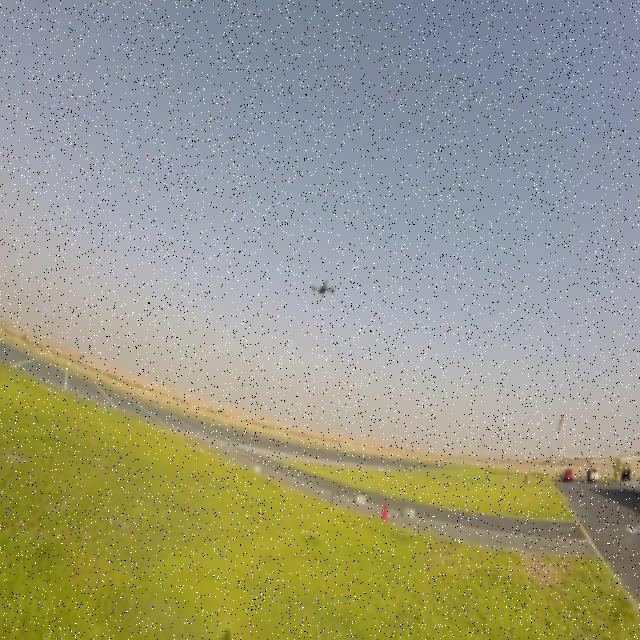UAV: (310, 280, 336, 299)
